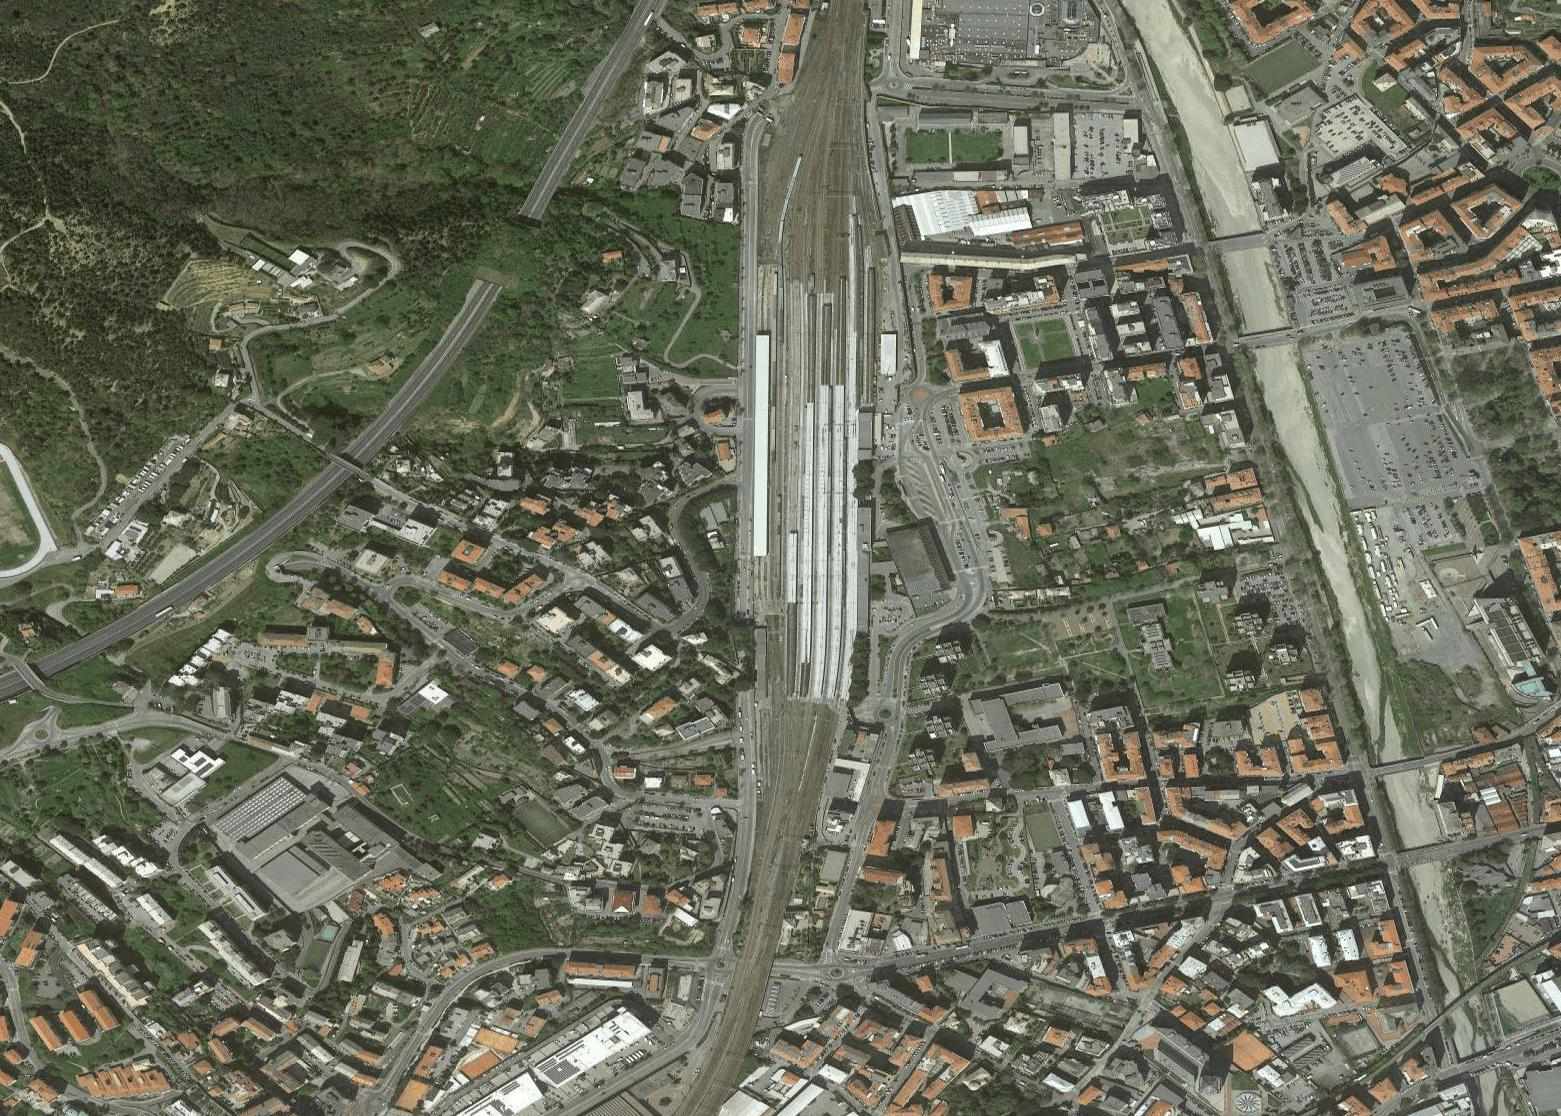bridge: (1433, 977, 1483, 1023), (1455, 1042, 1507, 1080), (1384, 838, 1448, 868), (1233, 324, 1300, 349), (1363, 754, 1429, 779), (1205, 229, 1272, 254), (321, 451, 366, 475)
motorway: (530, 2, 652, 210), (299, 364, 430, 505), (431, 208, 534, 365), (156, 506, 296, 612), (1, 604, 150, 694)
train_station: (733, 207, 896, 725)
